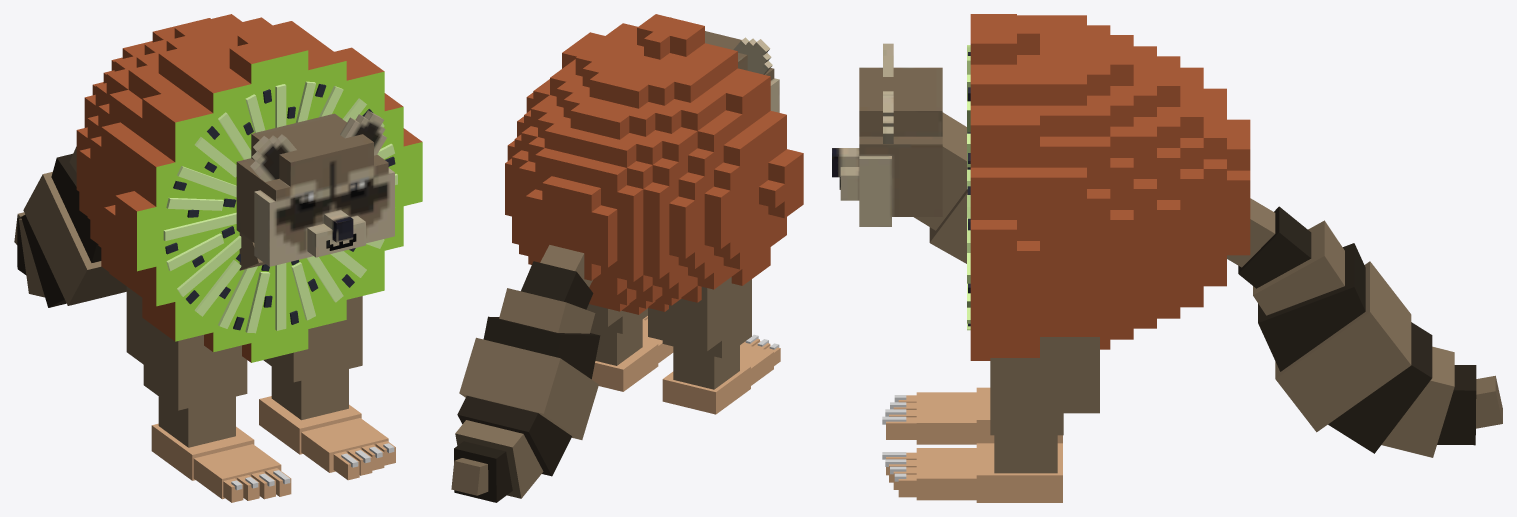
The model's file is pipiKiwi.fbx.
3 views of the same model, side by side, from view 1: azimuth 30°, elevation 25°; view 2: azimuth 150°, elevation 25°; view 3: azimuth 270°, elevation 25° (orthographic). The views are drawn at different scales.
Visible parts, largest first — view 1: pipiKiwi; view 2: pipiKiwi; view 3: pipiKiwi.
Boxes of the visible parts, x1,y1,x2,y2 form: pipiKiwi: (14, 14, 422, 502); pipiKiwi: (451, 14, 803, 502); pipiKiwi: (832, 14, 1502, 502).
Size of the model in its own units: 417 by 565 by 798.
